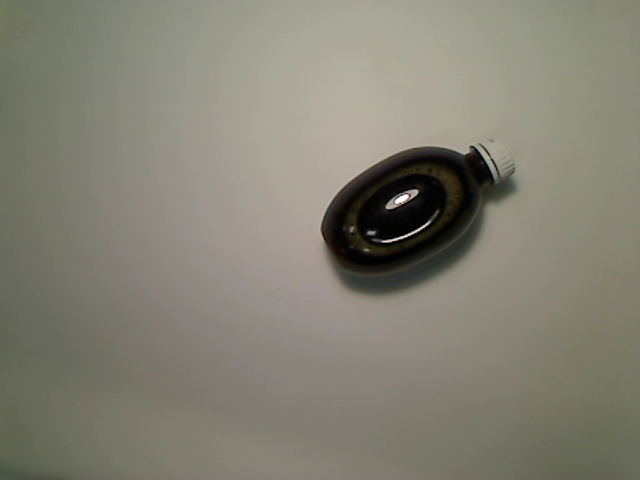plast_bottle: (320, 139, 515, 279)
